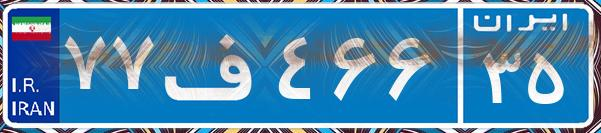3: (475, 38, 525, 113)
4: (273, 28, 330, 110)
5: (525, 38, 570, 115)
6: (385, 28, 445, 110), (330, 28, 385, 110)
7: (57, 26, 110, 107), (110, 28, 158, 105)
ف: (158, 15, 273, 115)
